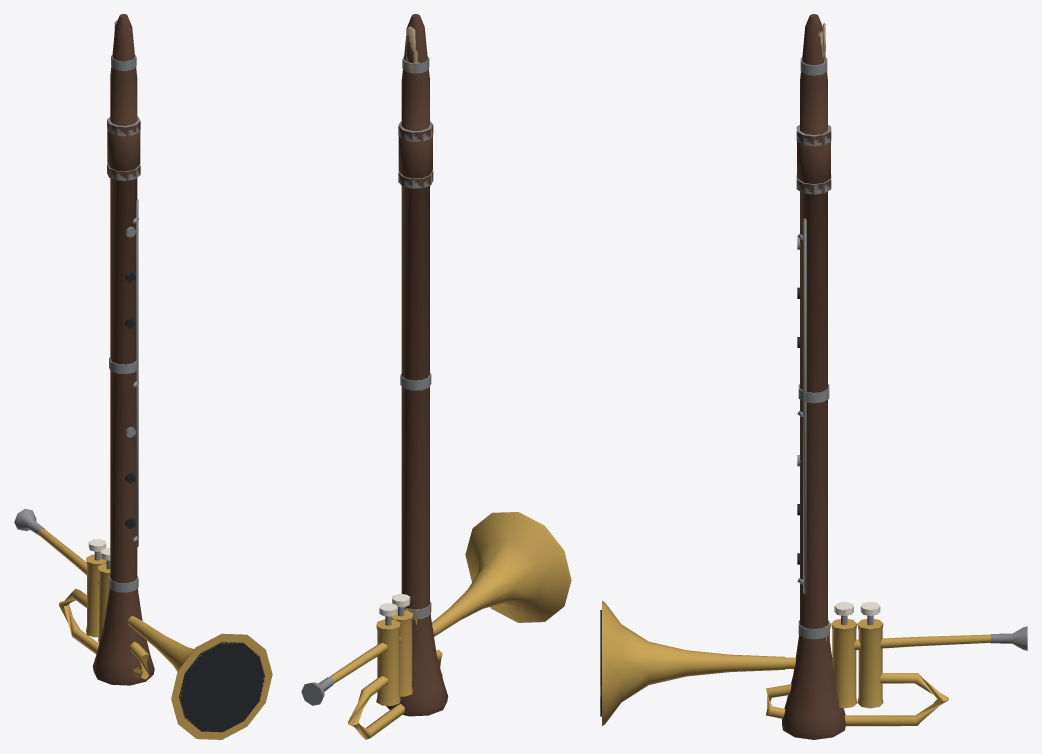
File: instrument.glb
3 views of the same model, side by side, from view 1: azimuth 30°, elevation 25°; view 2: azimuth 150°, elevation 25°; view 3: azimuth 270°, elevation 25° (orthographic). The views are drawn at different scales.
Visible parts, largest first — view 1: clarinette, cornet; view 2: clarinette, cornet; view 3: clarinette, cornet.
Boxes of the visible parts, x1,y1,x2,y2 form: clarinette: (92, 14, 154, 685); cornet: (14, 508, 272, 739); clarinette: (386, 14, 448, 716); cornet: (301, 512, 571, 739); clarinette: (782, 14, 845, 739); cornet: (600, 600, 1027, 726).
Bounding box in the file's own units: 0.1067 × 0.66 × 0.36.
Materials: 1 (1 with a texture image).
